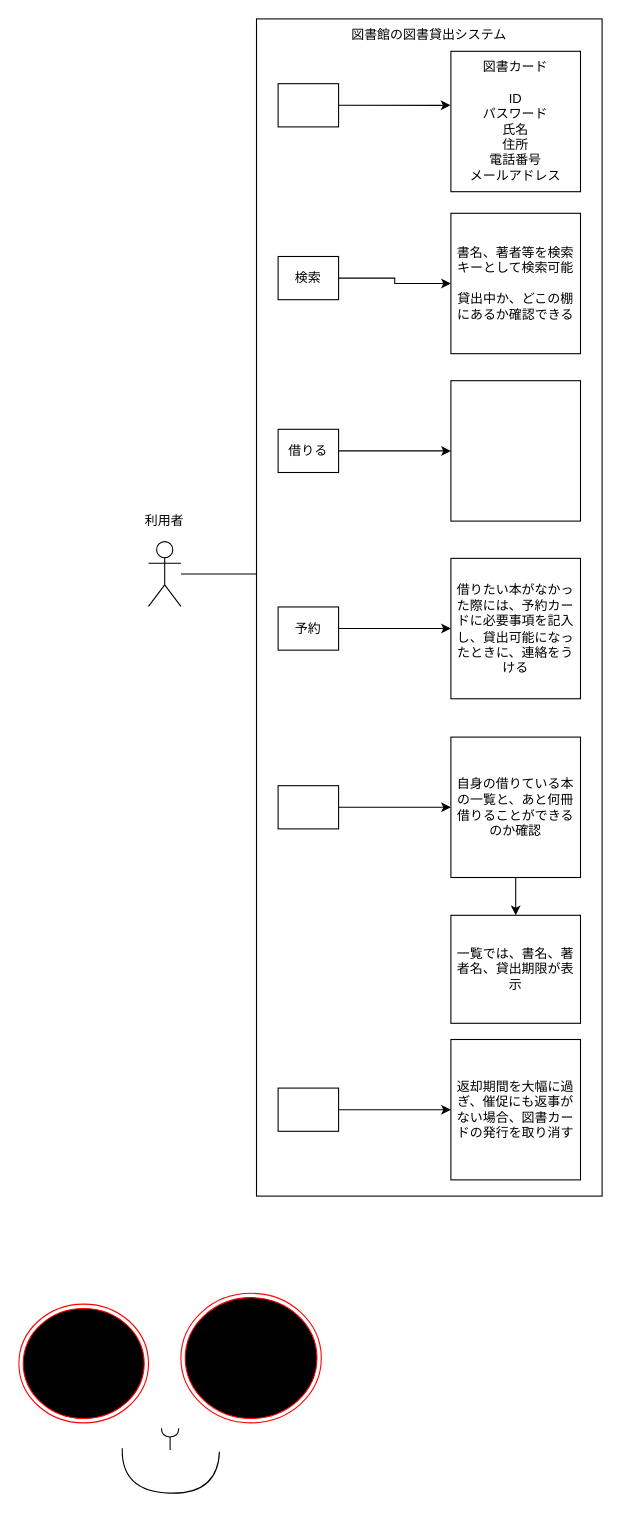
Some shapes in this 621 by 1514 pixel diagram are drawn without their labels. Here are the shapes that lost their labels. From the top down, the box of each, then its label:
(277, 83, 339, 127): 作成
(450, 380, 580, 521): 返却時間を記したシールが発行されるので、それまでに返却する
(147, 541, 181, 606): Actor
(277, 785, 339, 829): 確認
(277, 1087, 339, 1131): 取り消し
